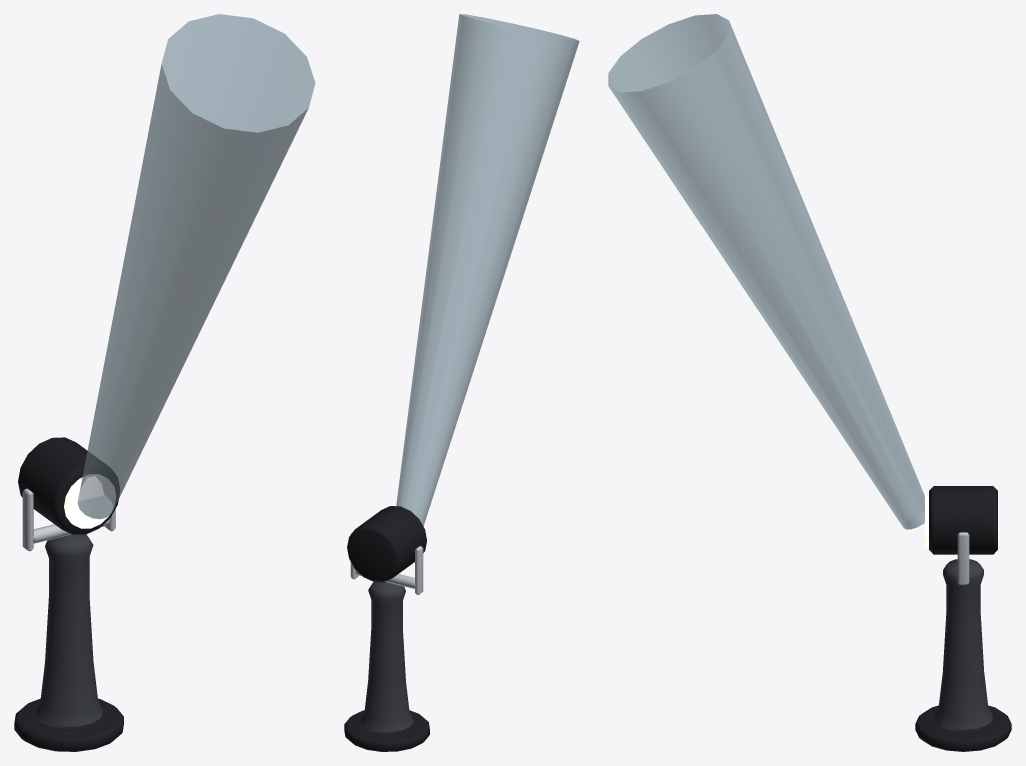
Rendered from spotlight_tower.glb.
3 renders of one model, left to right at view 1: azimuth 30°, elevation 25°; view 2: azimuth 150°, elevation 25°; view 3: azimuth 270°, elevation 25°, orthographic. The views are drawn at different scales.
Visible parts, largest first — view 1: spotlight_tower; view 2: spotlight_tower; view 3: spotlight_tower.
Part boxes in pixels (<box>): spotlight_tower: <box>14,14,315,751</box>; spotlight_tower: <box>344,14,579,751</box>; spotlight_tower: <box>608,14,1011,751</box>.
Size of the model in its own units: 1.2 by 6.81 by 3.52.
